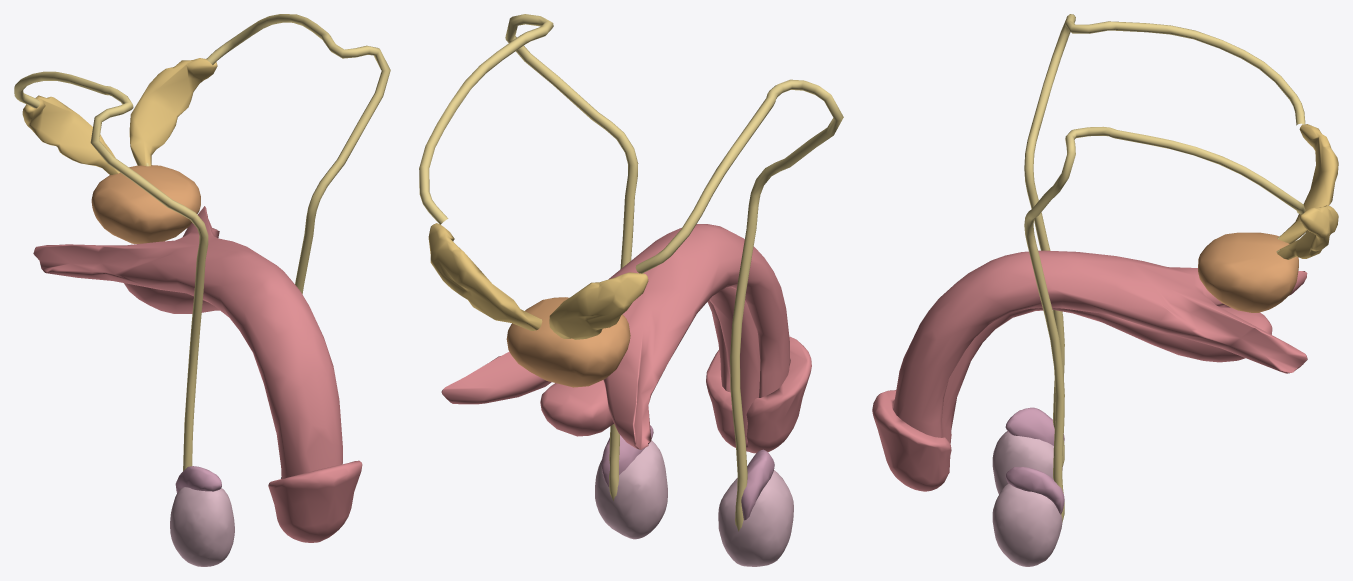
The model's file is reproductive.glb.
3 renders of one model, left to right at view 1: azimuth 30°, elevation 25°; view 2: azimuth 150°, elevation 25°; view 3: azimuth 270°, elevation 25°, orthographic. The views are drawn at different scales.
Parts seen in each view (by area): view 1: corpus-cavernosum-of-penis, prostate, ductus-deferens-right, glans-penis, seminal-gland-left, ductus-deferens-left, testis-right, seminal-gland-right, corpus-spongiosum-of-penis, epididymis-right; view 2: corpus-cavernosum-of-penis, ductus-deferens-right, ductus-deferens-left, prostate, corpus-spongiosum-of-penis, glans-penis, testis-right, testis-left, seminal-gland-left, seminal-gland-right, epididymis-right, epididymis-left; view 3: corpus-cavernosum-of-penis, prostate, ductus-deferens-left, ductus-deferens-right, corpus-spongiosum-of-penis, glans-penis, testis-left, seminal-gland-right, testis-right, seminal-gland-left, epididymis-left, epididymis-right.
Part boxes in pixels (bbox=[...]): corpus-cavernosum-of-penis: bbox=[33, 206, 342, 479]; prostate: bbox=[91, 165, 200, 243]; ductus-deferens-right: bbox=[14, 71, 208, 470]; glans-penis: bbox=[268, 460, 362, 542]; seminal-gland-left: bbox=[129, 58, 217, 166]; ductus-deferens-left: bbox=[206, 14, 390, 294]; testis-right: bbox=[170, 487, 234, 566]; seminal-gland-right: bbox=[22, 95, 119, 174]; corpus-spongiosum-of-penis: bbox=[124, 283, 219, 313]; epididymis-right: bbox=[175, 466, 221, 492]; corpus-cavernosum-of-penis: bbox=[441, 224, 789, 449]; ductus-deferens-right: bbox=[635, 79, 843, 531]; ductus-deferens-left: bbox=[419, 14, 638, 500]; prostate: bbox=[506, 297, 630, 387]; corpus-spongiosum-of-penis: bbox=[540, 287, 760, 447]; glans-penis: bbox=[706, 336, 811, 453]; testis-right: bbox=[718, 470, 793, 566]; testis-left: bbox=[595, 440, 667, 539]; seminal-gland-left: bbox=[428, 223, 542, 330]; seminal-gland-right: bbox=[549, 272, 648, 339]; epididymis-right: bbox=[741, 449, 774, 520]; epididymis-left: bbox=[601, 425, 653, 486]; corpus-cavernosum-of-penis: bbox=[893, 250, 1307, 437]; prostate: bbox=[1198, 232, 1298, 312]; ductus-deferens-left: bbox=[1024, 126, 1305, 522]; ductus-deferens-right: bbox=[1024, 14, 1305, 466]; corpus-spongiosum-of-penis: bbox=[942, 307, 1272, 473]; glans-penis: bbox=[872, 390, 951, 491]; testis-left: bbox=[992, 483, 1062, 566]; seminal-gland-right: bbox=[1278, 124, 1338, 243]; testis-right: bbox=[992, 431, 1062, 494]; seminal-gland-left: bbox=[1277, 205, 1338, 259]; epididymis-left: bbox=[1005, 467, 1064, 514]; epididymis-right: bbox=[1005, 407, 1064, 445].
Size of the model in its own units: 0.112 by 0.1654 by 0.151.
